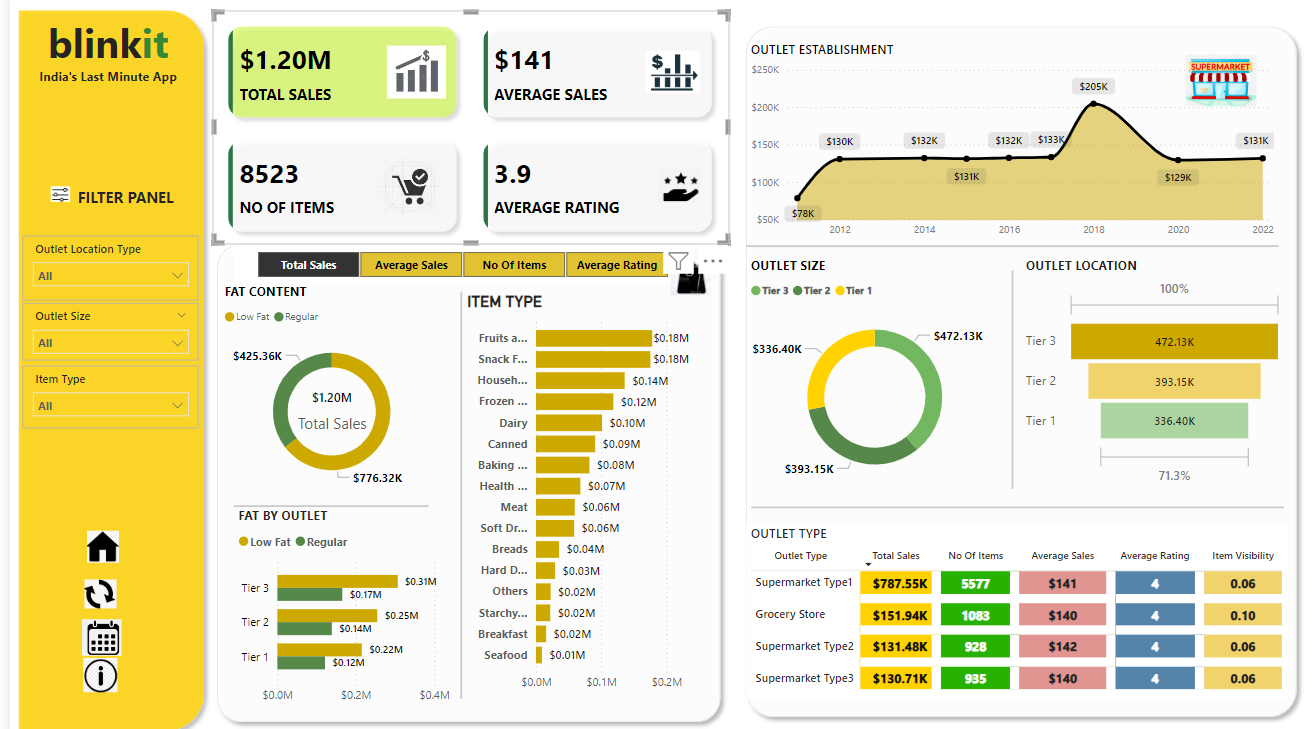

This screenshot's page, from the dashboard's own definition file:
{"tool":"powerbi","page":{"name":"Page 1","canvas":[1400,800],"ordinal":0},"visuals":[{"type":"shape","box":[0,9.4,217.2,790.9],"z":0},{"type":"textbox","box":[12.2,19,186.1,89.7],"z":1000},{"type":"cardVisual","fields":{"Data":["BlinkIT Grocery Data.Total Sales","BlinkIT Grocery Data.Average Sales","BlinkIT Grocery Data.No Of Items","BlinkIT Grocery Data.Average Rating"]},"box":[217.2,18.8,553.6,250.7],"z":2000},{"type":"shape","box":[213.1,260.1,557.6,530.8],"z":3000},{"type":"donutChart","title":"FAT CONTENT","fields":{"Y":["BlinkIT Grocery Data.Total Sales"],"Category":["BlinkIT Grocery Data.Item Fat Content"]},"box":[225.2,311,239.9,230.6],"z":4000},{"type":"slicer","fields":{"Values":["Metrics.Metrics"]},"box":[239.9,270.8,489.3,40.2],"z":5000},{"type":"cardVisual","fields":{"Data":["BlinkIT Grocery Data.Total Sales"]},"box":[289.5,407.5,112.6,67],"z":6000},{"type":"clusteredBarChart","title":"FAT BY OUTLET","fields":{"Y":["BlinkIT Grocery Data.Total Sales"],"Category":["BlinkIT Grocery Data.Outlet Location Type"],"Series":["BlinkIT Grocery Data.Item Fat Content"]},"box":[239.9,550.9,239.9,219.8],"z":7000},{"type":"shape","box":[239.9,530.8,209.1,38.9],"z":8000},{"type":"shape","box":[443.7,320.4,80.4,437],"z":9000},{"type":"barChart","title":"ITEM TYPE","fields":{"Y":["BlinkIT Grocery Data.Total Sales"],"Category":["BlinkIT Grocery Data.Item Type"]},"box":[485.3,320.4,265.4,437],"z":10000},{"type":"shape","box":[780.2,26.8,608.6,758.7],"z":11000},{"type":"lineChart","title":"OUTLET ESTABLISHMENT","fields":{"Category":["BlinkIT Grocery Data.Outlet Establishment Year"],"Y":["BlinkIT Grocery Data.Total Sales"]},"box":[789.5,50.9,571,219.8],"z":12000},{"type":"shape","box":[789.5,260.1,571,22.8],"z":13000},{"type":"donutChart","title":"OUTLET SIZE","fields":{"Y":["BlinkIT Grocery Data.Total Sales"],"Category":["BlinkIT Grocery Data.Outlet Location Type"]},"box":[789.5,282.8,276.1,256],"z":14000},{"type":"shape","box":[1055,297.6,40.2,234.6],"z":15000},{"type":"funnel","title":"OUTLET LOCATION","fields":{"Y":["Sum(BlinkIT Grocery Data.Sales)"],"Category":["BlinkIT Grocery Data.Outlet Location Type"]},"box":[1084.5,282.8,285.5,249.3],"z":16000},{"type":"shape","box":[794.9,540.2,571,22.8],"z":17000},{"type":"pivotTable","title":"OUTLET TYPE","fields":{"Rows":["BlinkIT Grocery Data.Outlet Type"],"Values":["BlinkIT Grocery Data.Total Sales","BlinkIT Grocery Data.No Of Items","BlinkIT Grocery Data.Average Sales","BlinkIT Grocery Data.Average Rating","Avg(BlinkIT Grocery Data.Item Visibility)"]},"box":[789.5,569.7,580.4,187.7],"z":18000},{"type":"image","box":[703.8,272.1,52.3,60.3],"z":19000},{"type":"image","box":[77.7,563,44.2,61.7],"z":20000},{"type":"image","box":[75.1,607.2,44.2,73.7],"z":21000},{"type":"image","box":[72.4,663.5,52.3,55],"z":22000},{"type":"image","box":[73.7,705.1,46.9,52.3],"z":23000},{"type":"image","box":[1256,50.9,85.8,85.8],"z":24000},{"type":"slicer","fields":{"Values":["BlinkIT Grocery Data.Outlet Location Type"]},"box":[13.4,260.1,189,69.7],"z":24001},{"type":"slicer","fields":{"Values":["BlinkIT Grocery Data.Outlet Size"]},"box":[13.4,332.4,189,61.7],"z":24002},{"type":"slicer","fields":{"Values":["BlinkIT Grocery Data.Item Type"]},"box":[13.4,399.5,189,67],"z":24003},{"type":"textbox","box":[61.7,202.4,124.7,36.2],"z":24004},{"type":"image","box":[34.9,202.4,38.9,26.8],"z":24005}]}

Visuals, with their boxes on the page's 1400x800 design canvas (x1, y1, x2, y2). These are canvas units, not pixel positions in the 1315x729 screenshot, which may show the page scaled, cropped or inside an application window:
shape: {"left": 0, "top": 9, "right": 217, "bottom": 800}
textbox: {"left": 12, "top": 19, "right": 198, "bottom": 109}
cardVisual - BlinkIT Grocery Data.Total Sales x BlinkIT Grocery Data.Average Sales: {"left": 217, "top": 19, "right": 771, "bottom": 270}
shape: {"left": 213, "top": 260, "right": 771, "bottom": 791}
"FAT CONTENT" donutChart: {"left": 225, "top": 311, "right": 465, "bottom": 542}
slicer - Metrics.Metrics: {"left": 240, "top": 271, "right": 729, "bottom": 311}
cardVisual - BlinkIT Grocery Data.Total Sales: {"left": 290, "top": 408, "right": 402, "bottom": 474}
"FAT BY OUTLET" clusteredBarChart: {"left": 240, "top": 551, "right": 480, "bottom": 771}
shape: {"left": 240, "top": 531, "right": 449, "bottom": 570}
shape: {"left": 444, "top": 320, "right": 524, "bottom": 757}
"ITEM TYPE" barChart: {"left": 485, "top": 320, "right": 751, "bottom": 757}
shape: {"left": 780, "top": 27, "right": 1389, "bottom": 786}
"OUTLET ESTABLISHMENT" lineChart: {"left": 790, "top": 51, "right": 1360, "bottom": 271}
shape: {"left": 790, "top": 260, "right": 1360, "bottom": 283}
"OUTLET SIZE" donutChart: {"left": 790, "top": 283, "right": 1066, "bottom": 539}
shape: {"left": 1055, "top": 298, "right": 1095, "bottom": 532}
"OUTLET LOCATION" funnel: {"left": 1084, "top": 283, "right": 1370, "bottom": 532}
shape: {"left": 795, "top": 540, "right": 1366, "bottom": 563}
"OUTLET TYPE" pivotTable: {"left": 790, "top": 570, "right": 1370, "bottom": 757}
image: {"left": 704, "top": 272, "right": 756, "bottom": 332}
image: {"left": 78, "top": 563, "right": 122, "bottom": 625}
image: {"left": 75, "top": 607, "right": 119, "bottom": 681}
image: {"left": 72, "top": 664, "right": 125, "bottom": 718}
image: {"left": 74, "top": 705, "right": 121, "bottom": 757}
image: {"left": 1256, "top": 51, "right": 1342, "bottom": 137}
slicer - BlinkIT Grocery Data.Outlet Location Type: {"left": 13, "top": 260, "right": 202, "bottom": 330}
slicer - BlinkIT Grocery Data.Outlet Size: {"left": 13, "top": 332, "right": 202, "bottom": 394}
slicer - BlinkIT Grocery Data.Item Type: {"left": 13, "top": 400, "right": 202, "bottom": 466}
textbox: {"left": 62, "top": 202, "right": 186, "bottom": 239}
image: {"left": 35, "top": 202, "right": 74, "bottom": 229}
